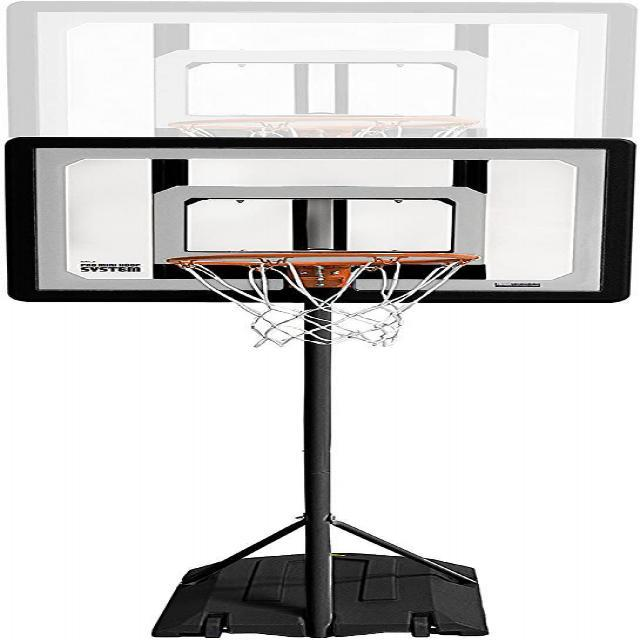hoop: (165, 252, 480, 348)
